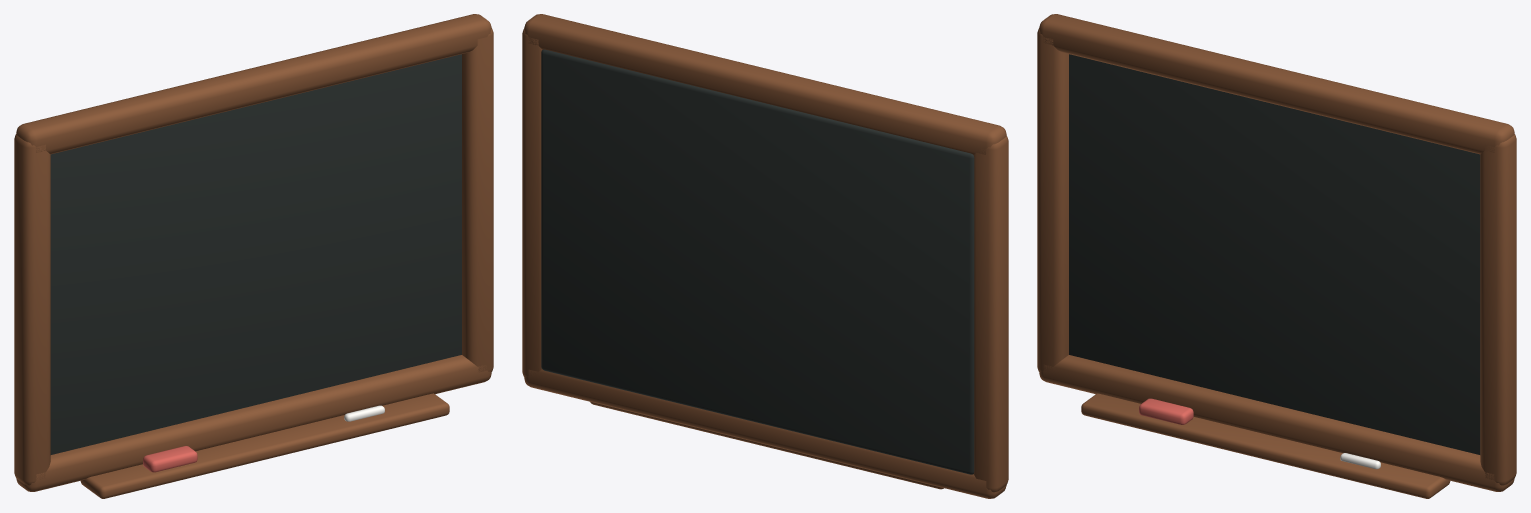
File: ardoise.glb
3 views of the same model, side by side, from view 1: azimuth 30°, elevation 25°; view 2: azimuth 150°, elevation 25°; view 3: azimuth 330°, elevation 25° (orthographic).
Parts seen in each view (by area): view 1: fond, cadre_haut, cadre_bas, cadre_gauche, cadre_droite, rebord, chiffon; view 2: fond, cadre_haut, cadre_gauche, cadre_bas, cadre_droite, rebord; view 3: fond, cadre_haut, cadre_bas, cadre_droite, cadre_gauche, rebord, chiffon.
Boxes of the visible parts, x1,y1,x2,y2 form: fond: (50, 54, 461, 454); cadre_haut: (16, 14, 491, 154); cadre_bas: (16, 355, 491, 491); cadre_gauche: (14, 134, 50, 485); cadre_droite: (462, 28, 493, 372); rebord: (80, 393, 449, 498); chiffon: (143, 446, 197, 472); fond: (541, 49, 974, 474); cadre_haut: (524, 14, 1006, 154); cadre_gauche: (973, 136, 1008, 492); cadre_bas: (524, 369, 1006, 498); cadre_droite: (522, 28, 542, 377); rebord: (590, 402, 943, 489); fond: (1069, 54, 1480, 454); cadre_haut: (1039, 14, 1514, 154); cadre_bas: (1039, 355, 1514, 491); cadre_droite: (1480, 134, 1516, 485); cadre_gauche: (1037, 28, 1068, 372); rebord: (1081, 393, 1450, 498); chiffon: (1139, 398, 1193, 424).
Bounding box in the file's own units: 1.21 × 0.91 × 0.14.
